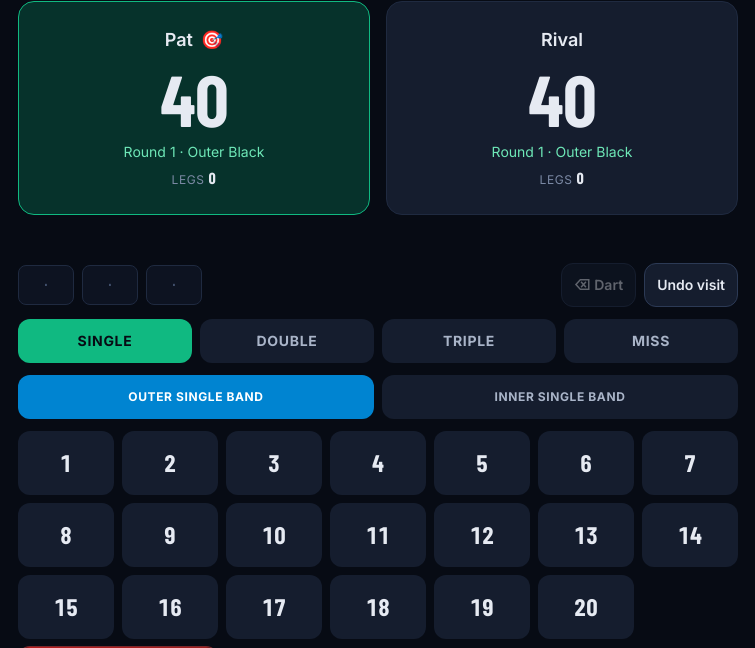
LiveScoringPage Halve It feedback › shows HALVED only when the total actually halved
The image size is (755, 648).
Click the button "1" at x=66, y=463, box [18,431,114,495]
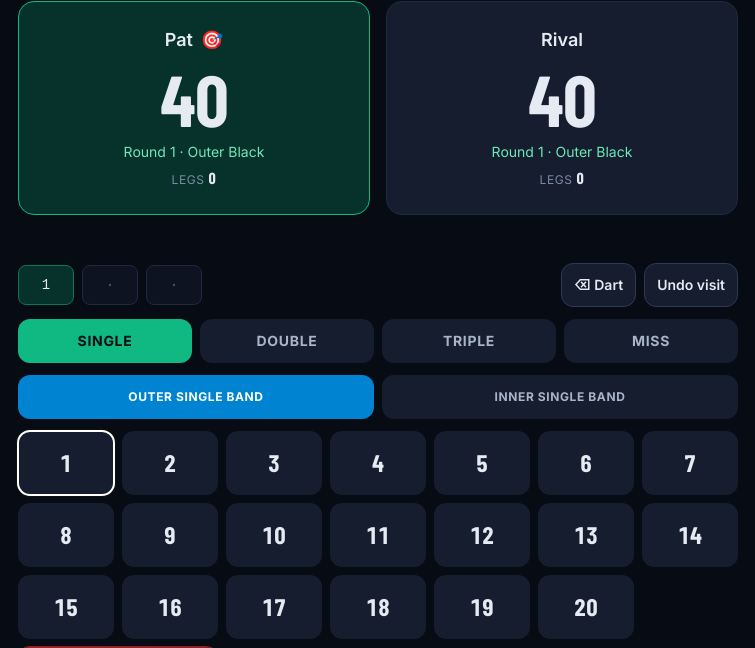
Click the button "1" at x=66, y=463, box [18,431,114,495]
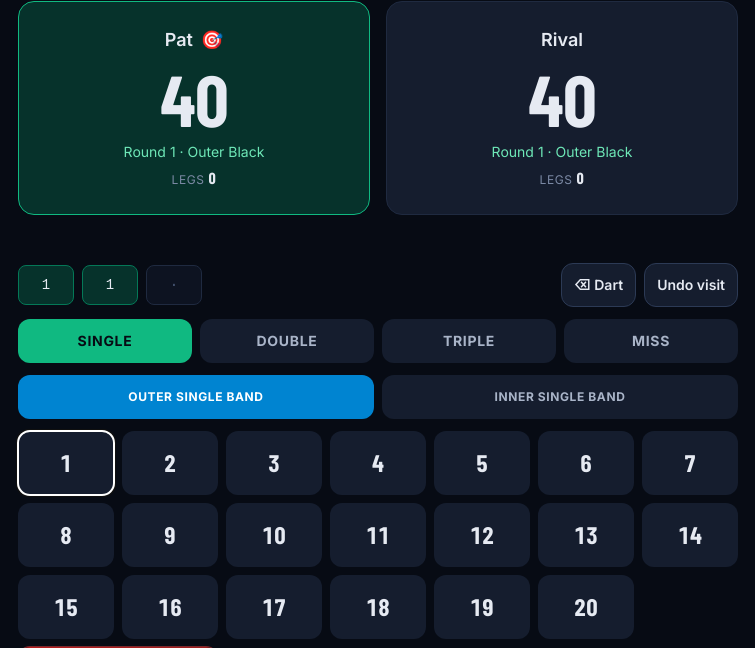
Click the button "1" at x=66, y=463, box [18,431,114,495]
(page scrolled)
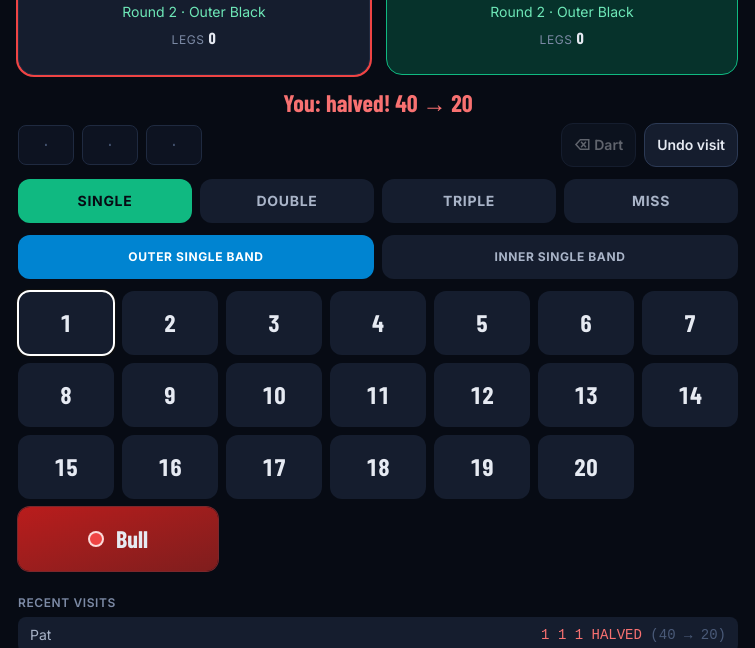
Now the message reads "You: halved! 40 → 20", box [283,88,473,117]
